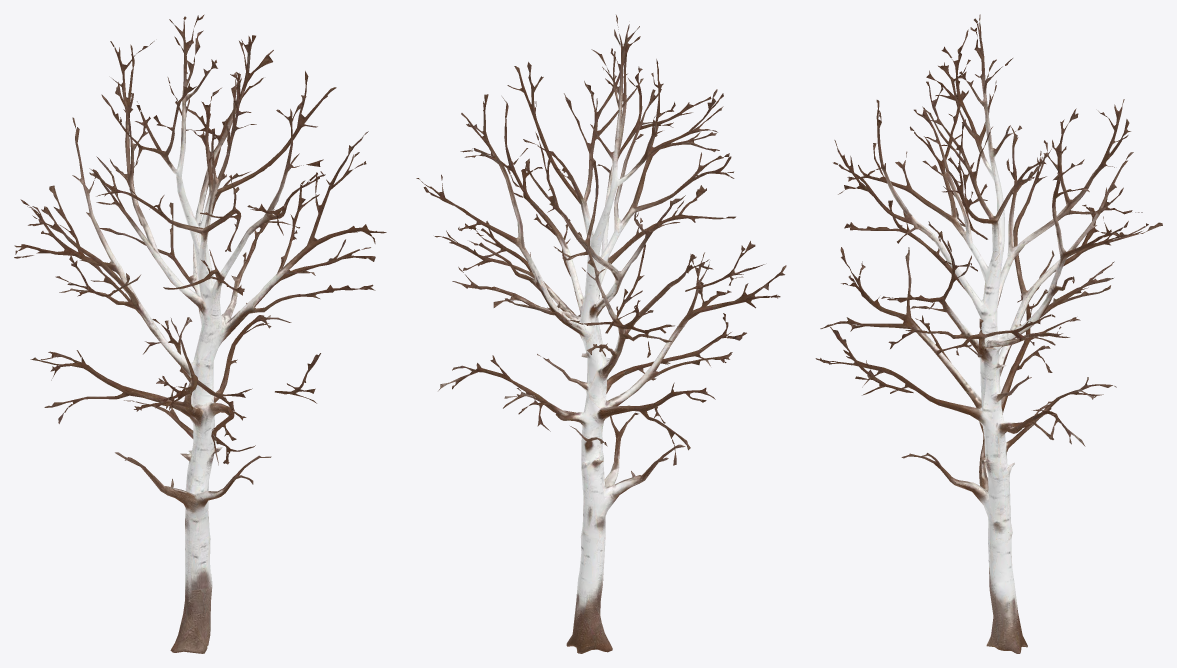
The model's file is prop-birch-winter.glb.
3 views of the same model, side by side, from view 1: azimuth 30°, elevation 25°; view 2: azimuth 150°, elevation 25°; view 3: azimuth 270°, elevation 25° (orthographic). The views are drawn at different scales.
Bounding box in the file's own units: 0.9083 × 1.86 × 0.9515.
Materials: 1 (1 with a texture image).
